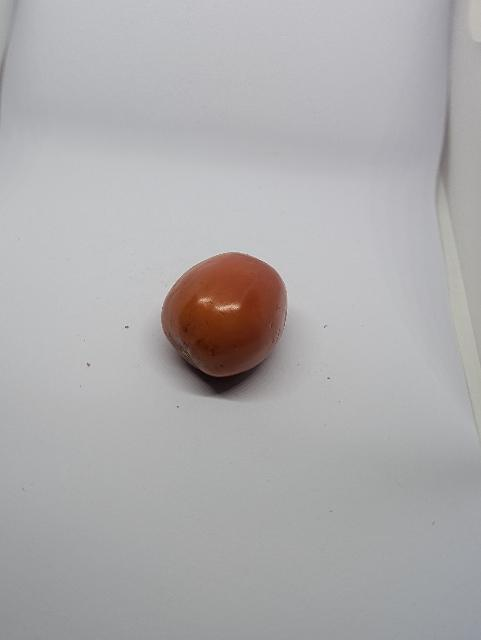red: (155, 247, 293, 386)
